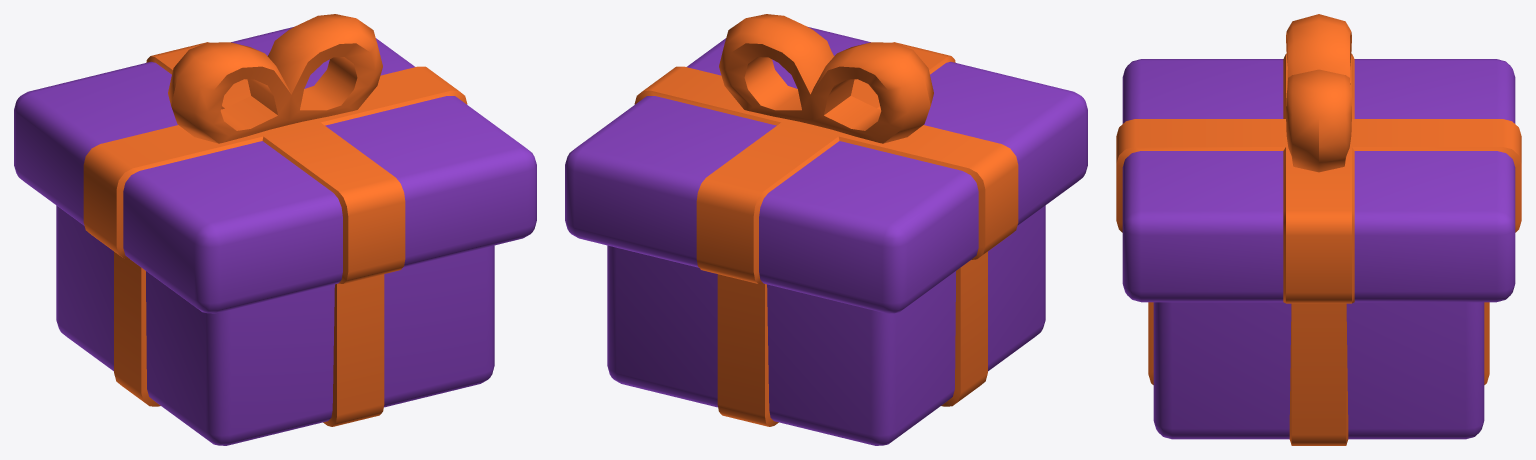
The model's file is giftF.gltf.glb.
3 renders of one model, left to right at view 1: azimuth 30°, elevation 25°; view 2: azimuth 150°, elevation 25°; view 3: azimuth 270°, elevation 25°, orthographic.
Parts seen in each view (by area): view 1: giftF; view 2: giftF; view 3: giftF.
Part boxes in pixels (x1,y1,x2,y2): giftF: (14,14,536,445); giftF: (565,14,1087,445); giftF: (1116,14,1521,445).
Bounding box in the file's own units: 0.4693 × 0.4212 × 0.4693.
